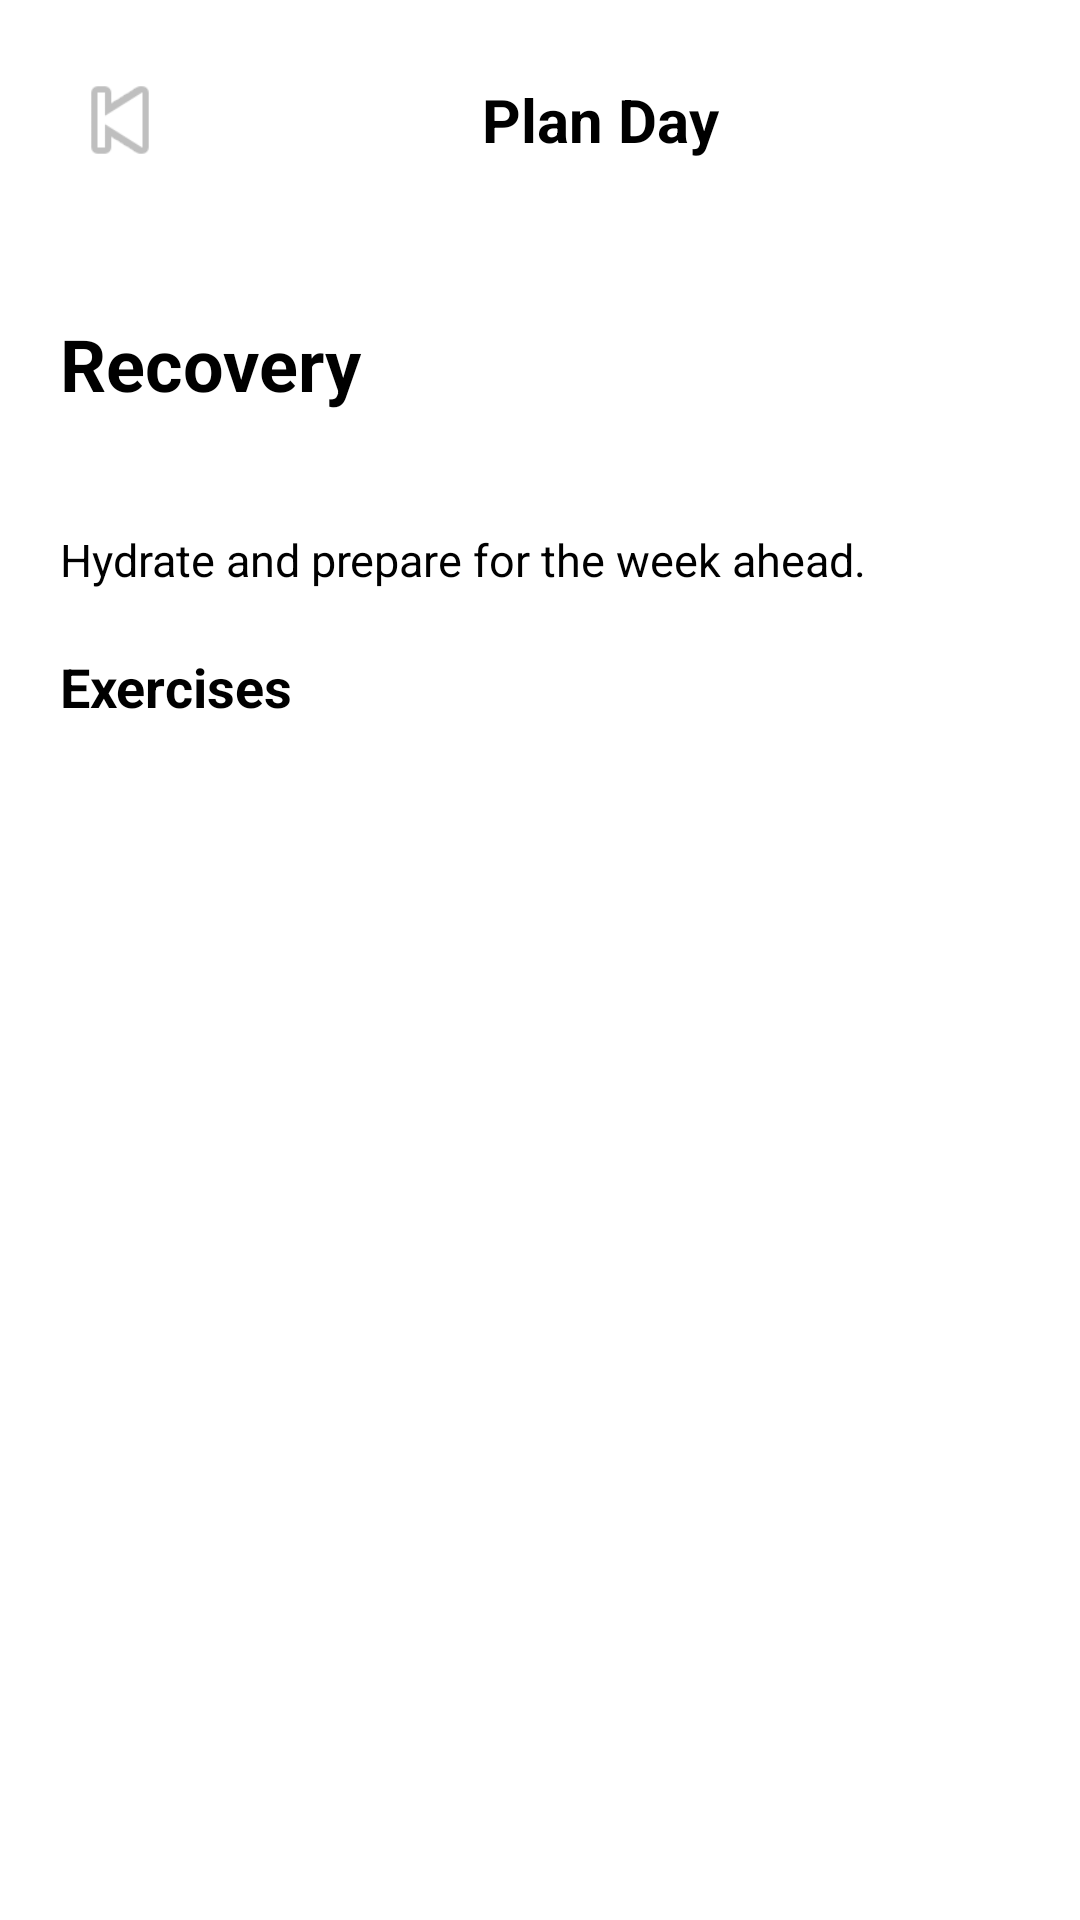

Icons on this 1080*1920 Android screen, each with its box as (x1, y1, x2, y2):
Back: (91, 86, 149, 154)
